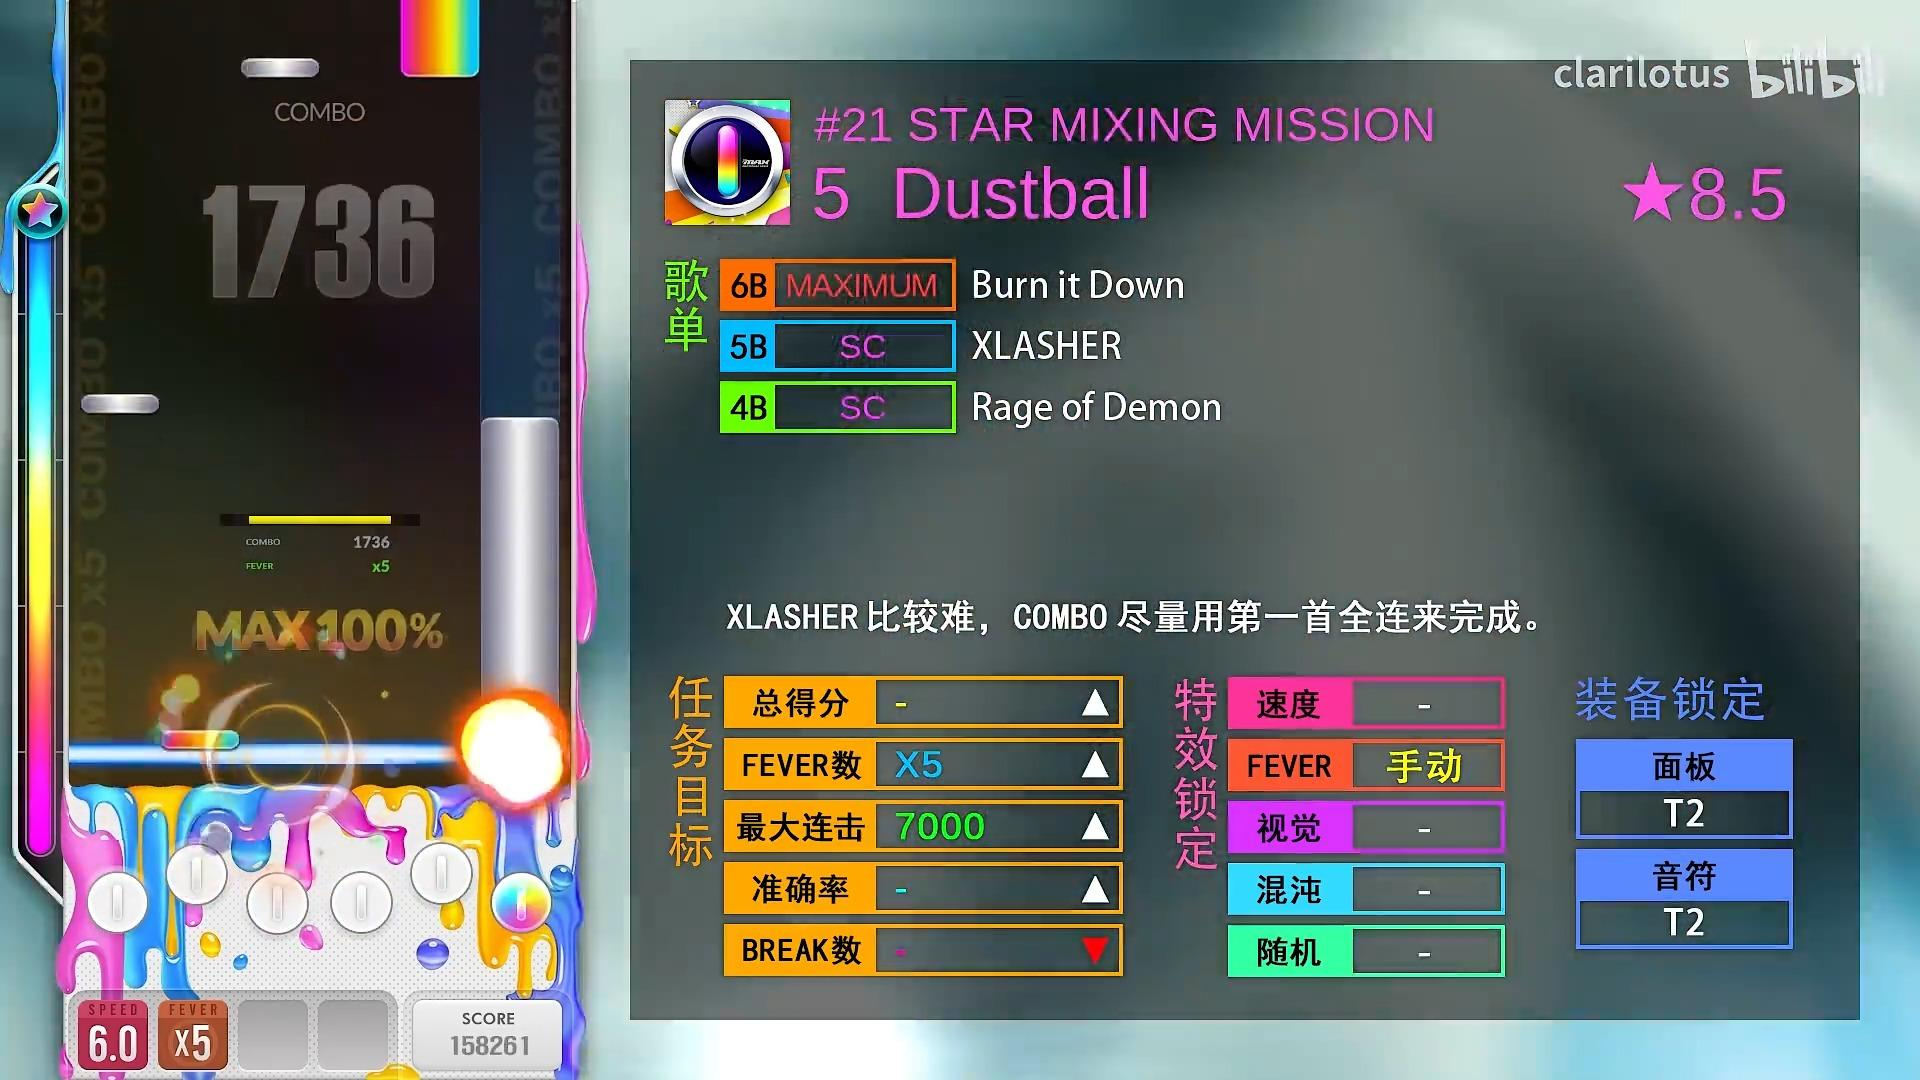hold-end: (481, 417, 560, 435)
hold-start: (400, 59, 479, 78)
note: (80, 394, 160, 415), (241, 58, 319, 78), (161, 731, 239, 750)
